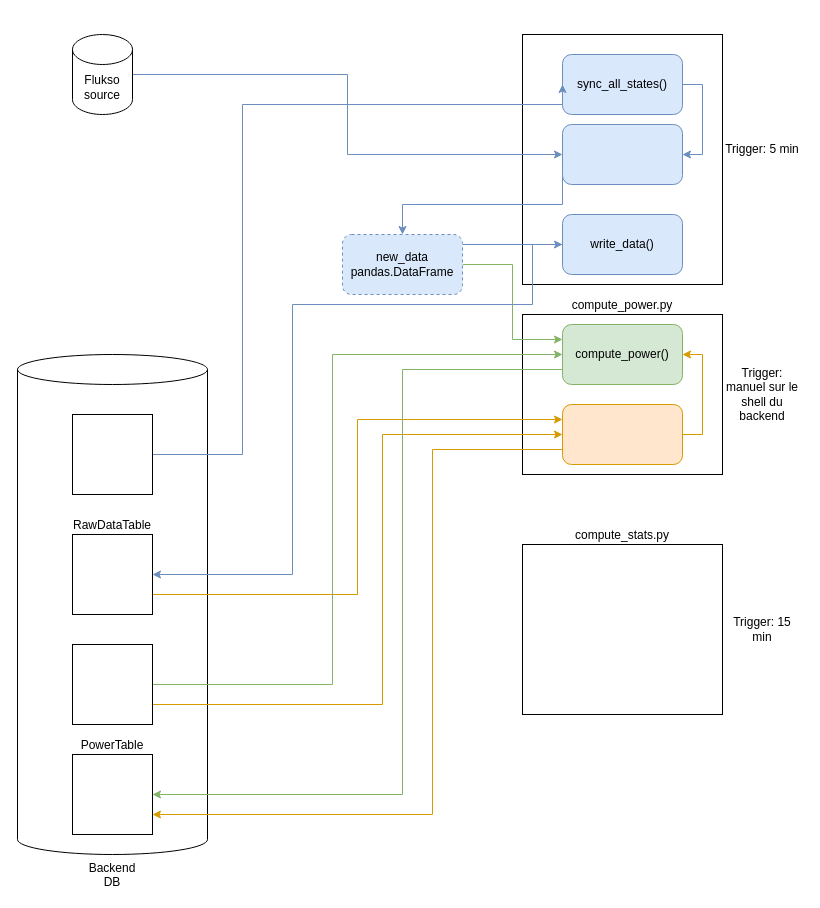
This 820x908 diagram has some shape labels left out. The shapes that lost their labels are listed below. From the top down, each one's box as (x1, y1, x2, y2) in pixels, then its label:
(562, 124, 682, 184): sync_state()
(522, 34, 722, 284): sync_raw_data.py
(72, 414, 152, 494): InstallConfigTable
(562, 404, 682, 464): recompute_power()
(72, 644, 152, 724): PowerConfigTable
